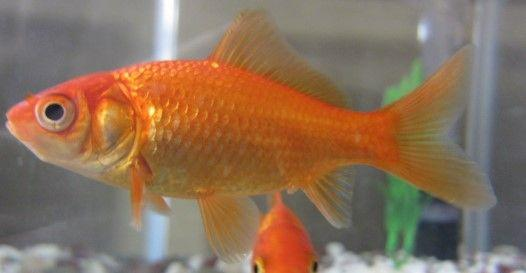Gold Fish: (8, 6, 506, 260), (245, 189, 322, 273)
